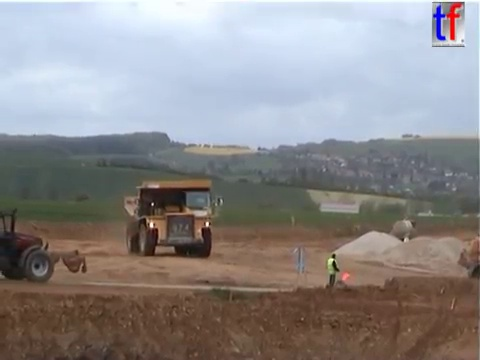excavator: (456, 231, 480, 290)
truck: (121, 178, 225, 258), (389, 219, 417, 243)
wheel loader: (1, 205, 89, 285)
worker: (325, 251, 341, 291)
